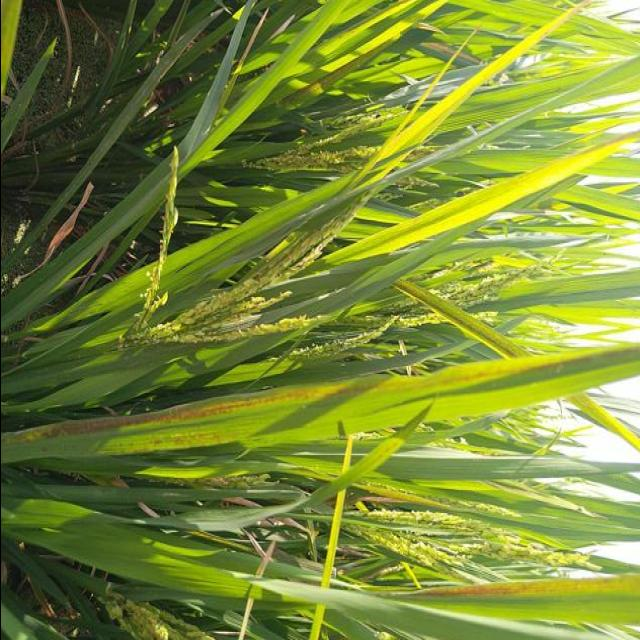Leaf Streak: (0, 348, 638, 447), (392, 281, 528, 359), (407, 575, 640, 600), (295, 39, 393, 95), (563, 393, 640, 455), (150, 433, 231, 450)
